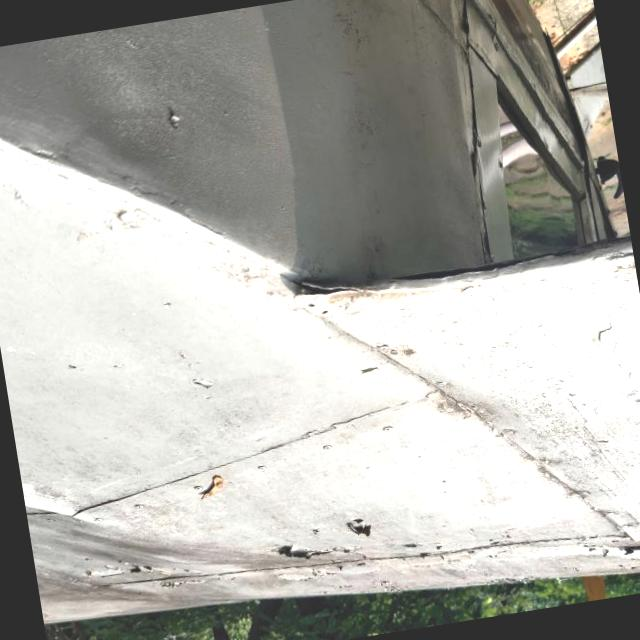crack: (272, 252, 374, 326)
